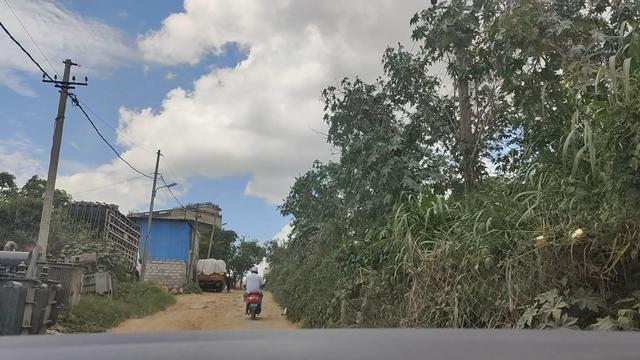HMV: (194, 256, 228, 295)
UnsurfacedRoad: (158, 295, 240, 328)
